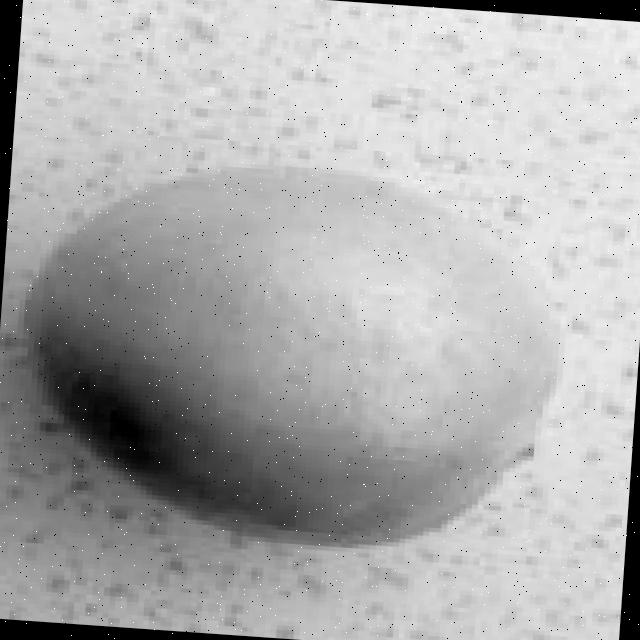Good_Lime-10-21-days: (17, 159, 565, 549)
